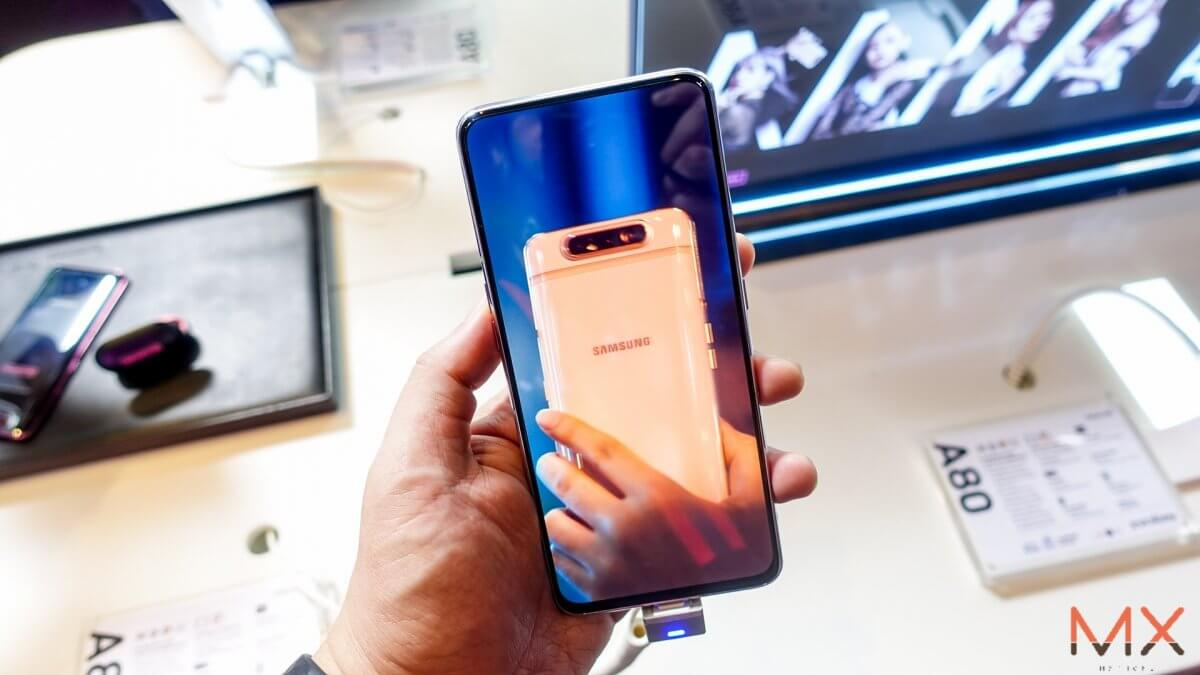Phone: (450, 62, 787, 620)
